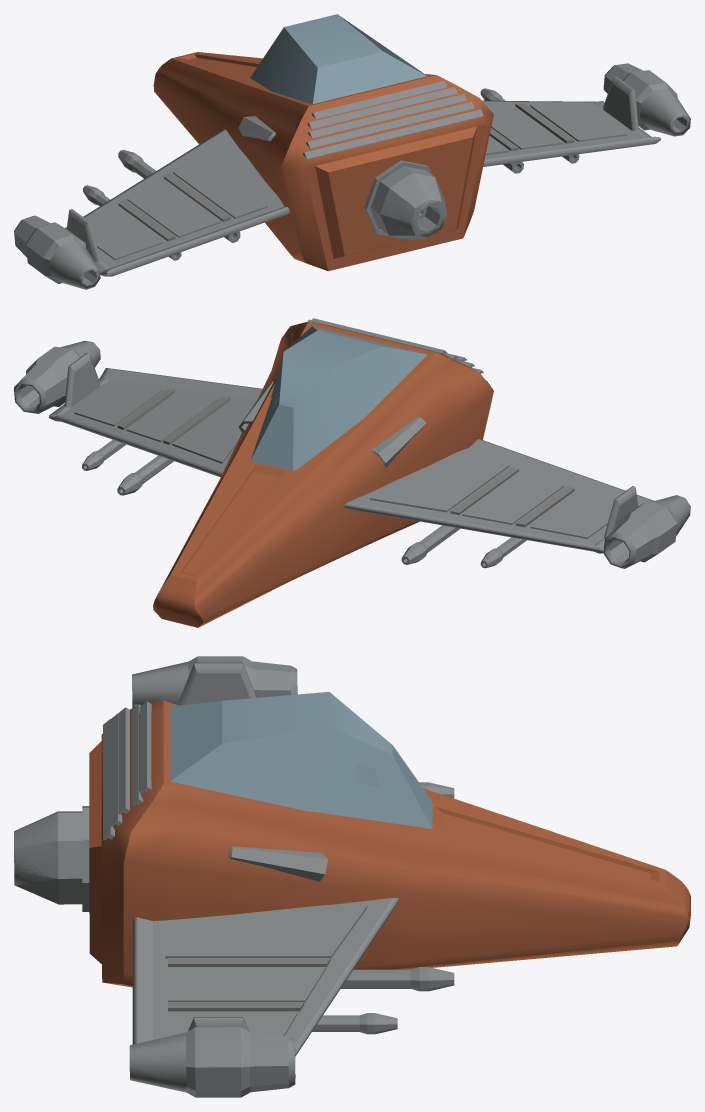
Rendered from EB_ship01.fbx.
3 renders of one model, top to bottom at view 1: azimuth 30°, elevation 25°; view 2: azimuth 150°, elevation 25°; view 3: azimuth 270°, elevation 25°, orthographic. The views are drawn at different scales.
Parts seen in each view (by area): view 1: Assembly~4, Assembly~6, Assembly~58, Assembly~31, Assembly~8, Assembly~64, Assembly~70, Assembly~37, Assembly~79, Assembly~82, Assembly~55, Assembly~28 (+12 smaller); view 2: Assembly~4, Assembly~6, Assembly~58, Assembly~31, Assembly~64, Assembly~70, Assembly~37, Assembly~79, Assembly~43, Assembly~82, Assembly~52, Assembly~55 (+10 smaller); view 3: Assembly~4, Assembly~6, Assembly~31, Assembly~37, Assembly~43, Assembly~52, Assembly~8, Assembly~64, Assembly~28, Assembly~58, Assembly~34, Assembly~24 (+10 smaller).
Boxes of the visible parts, x1,y1,x2,y2 form: Assembly~4: (153,52,493,271); Assembly~6: (250,14,427,104); Assembly~58: (65,128,289,276); Assembly~31: (482,76,660,166); Assembly~8: (370,166,447,238); Assembly~64: (14,215,100,289); Assembly~70: (173,139,267,218); Assembly~37: (603,63,690,136); Assembly~79: (127,178,220,237); Assembly~82: (89,206,163,260); Assembly~55: (530,105,626,141); Assembly~28: (371,166,446,239); Assembly~4: (153,321,493,627); Assembly~6: (250,326,427,471); Assembly~58: (344,439,653,553); Assembly~31: (49,353,262,477); Assembly~64: (603,495,690,568); Assembly~70: (370,453,509,512); Assembly~37: (14,340,100,413); Assembly~79: (462,471,563,524); Assembly~43: (172,398,256,463); Assembly~82: (530,491,612,538); Assembly~52: (126,391,220,442); Assembly~55: (74,383,162,426); Assembly~4: (89,700,690,987); Assembly~6: (170,692,432,828); Assembly~31: (132,898,398,1056); Assembly~37: (129,1027,295,1097); Assembly~43: (165,906,367,958); Assembly~52: (168,967,326,1002); Assembly~8: (14,811,82,904); Assembly~64: (132,656,297,707); Assembly~28: (14,811,82,891); Assembly~58: (132,662,256,708); Assembly~34: (341,967,454,991); Assembly~24: (228,846,327,881).
Size of the model in its own units: 101 by 69.95 by 28.14.
